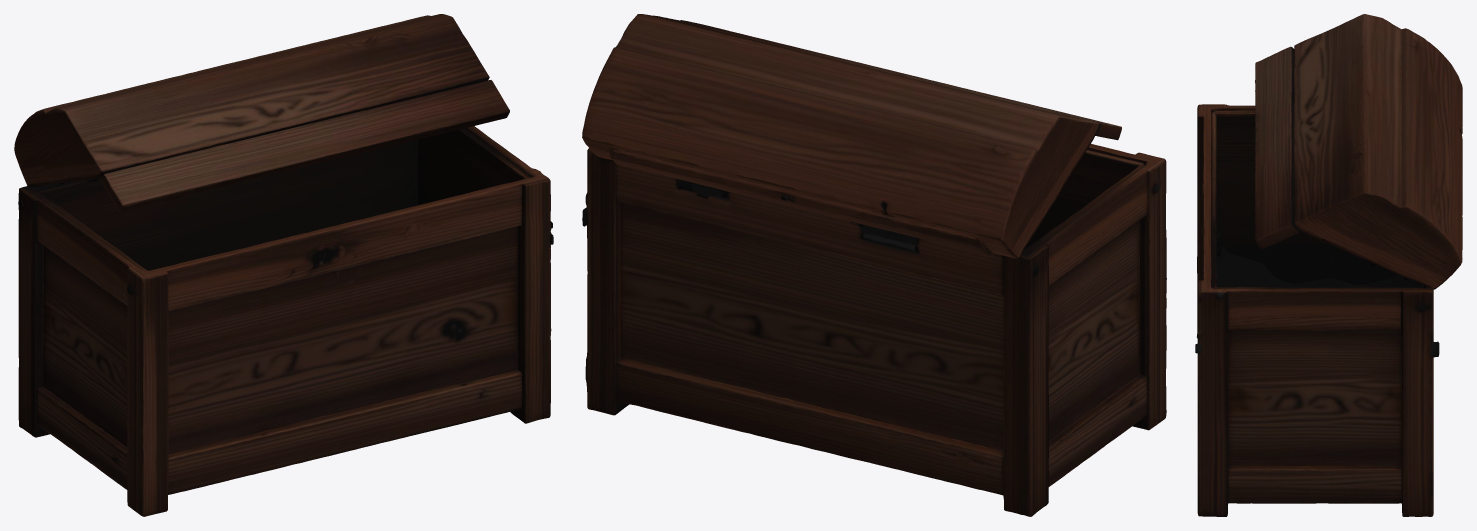
3 views of the same model, side by side, from view 1: azimuth 30°, elevation 25°; view 2: azimuth 150°, elevation 25°; view 3: azimuth 270°, elevation 25° (orthographic). The views are drawn at different scales.
Visible parts, largest first — view 1: world; view 2: world; view 3: world.
Boxes of the visible parts, box(x1,y1,x2,y2) form: world: box(14, 14, 553, 516); world: box(582, 14, 1166, 516); world: box(1195, 14, 1462, 516).
Bounding box in the file's own units: 1 × 0.7867 × 0.5953.
Materials: 1 (1 with a texture image).
